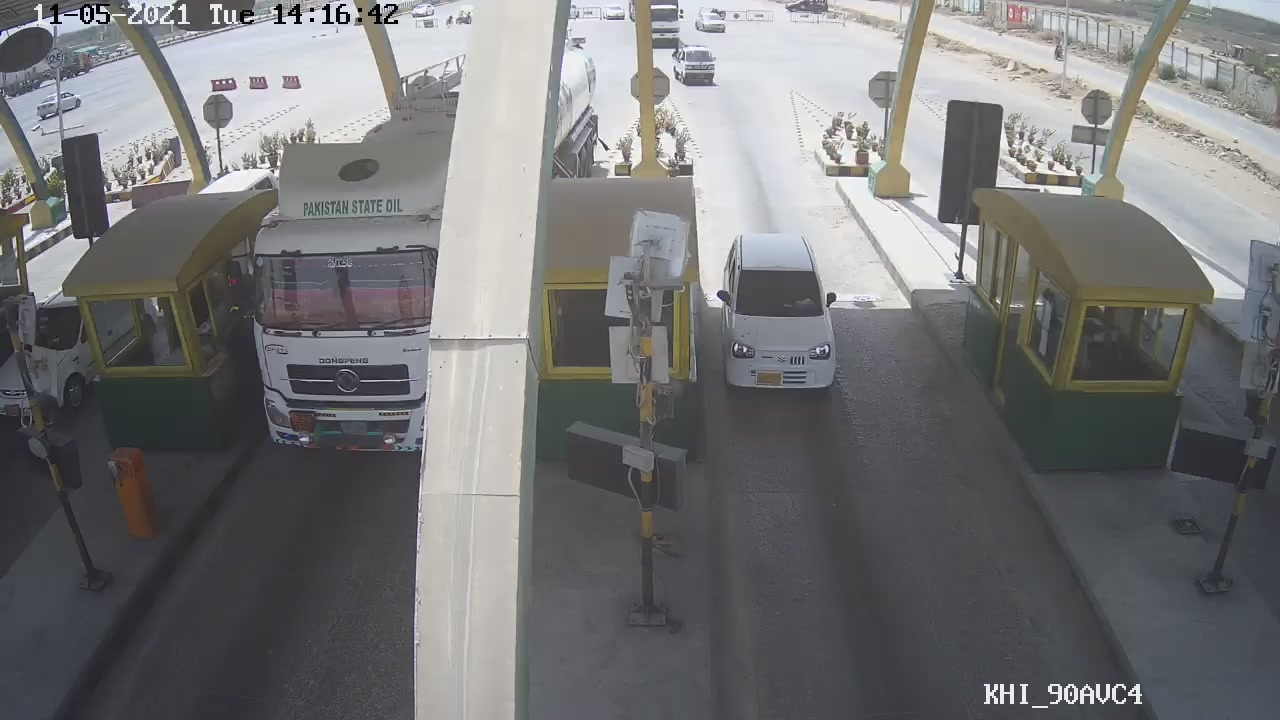F1: (709, 230, 852, 403)
